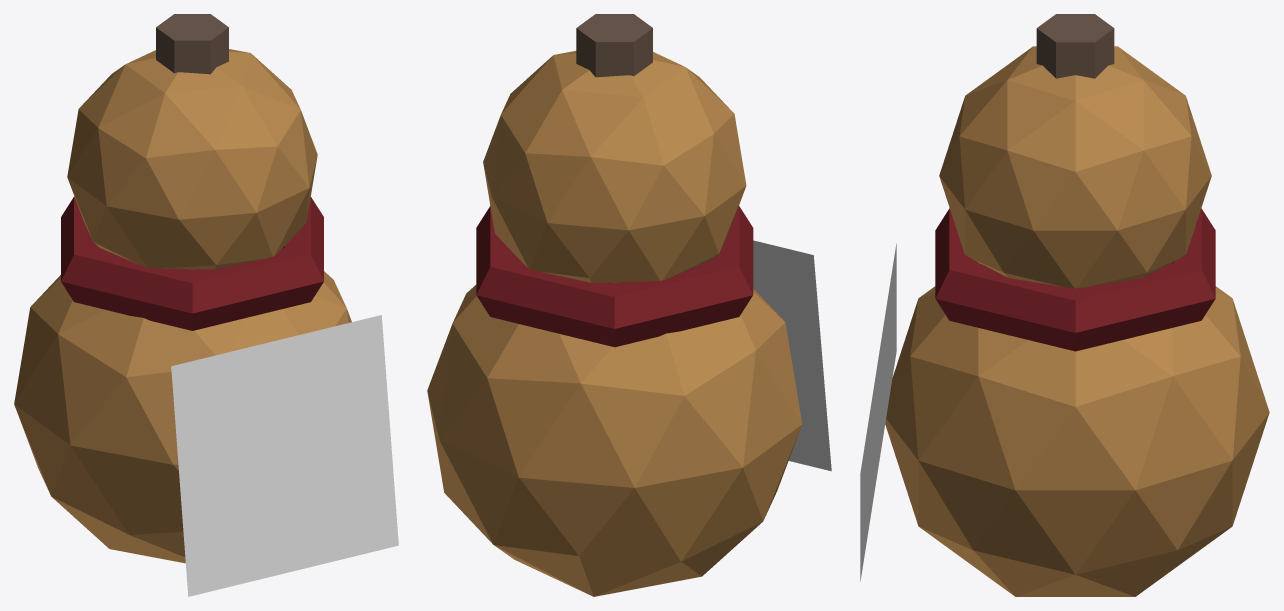
The model's file is GourdYokai_early_v01.fbx.
3 views of the same model, side by side, from view 1: azimuth 30°, elevation 25°; view 2: azimuth 150°, elevation 25°; view 3: azimuth 270°, elevation 25° (orthographic). The views are drawn at different scales.
Visible parts, largest first — view 1: Gourd, Plane; view 2: Gourd, Plane; view 3: Gourd, Plane.
Boxes of the visible parts, x1=… form: Gourd: x1=14, y1=14, x2=351, y2=563; Plane: x1=171, y1=315, x2=398, y2=596; Gourd: x1=427, y1=14, x2=802, y2=596; Plane: x1=753, y1=240, x2=831, y2=471; Gourd: x1=885, y1=14, x2=1269, y2=596; Plane: x1=860, y1=243, x2=896, y2=581.
Bounding box in the file's own units: 285 × 478 × 316.
